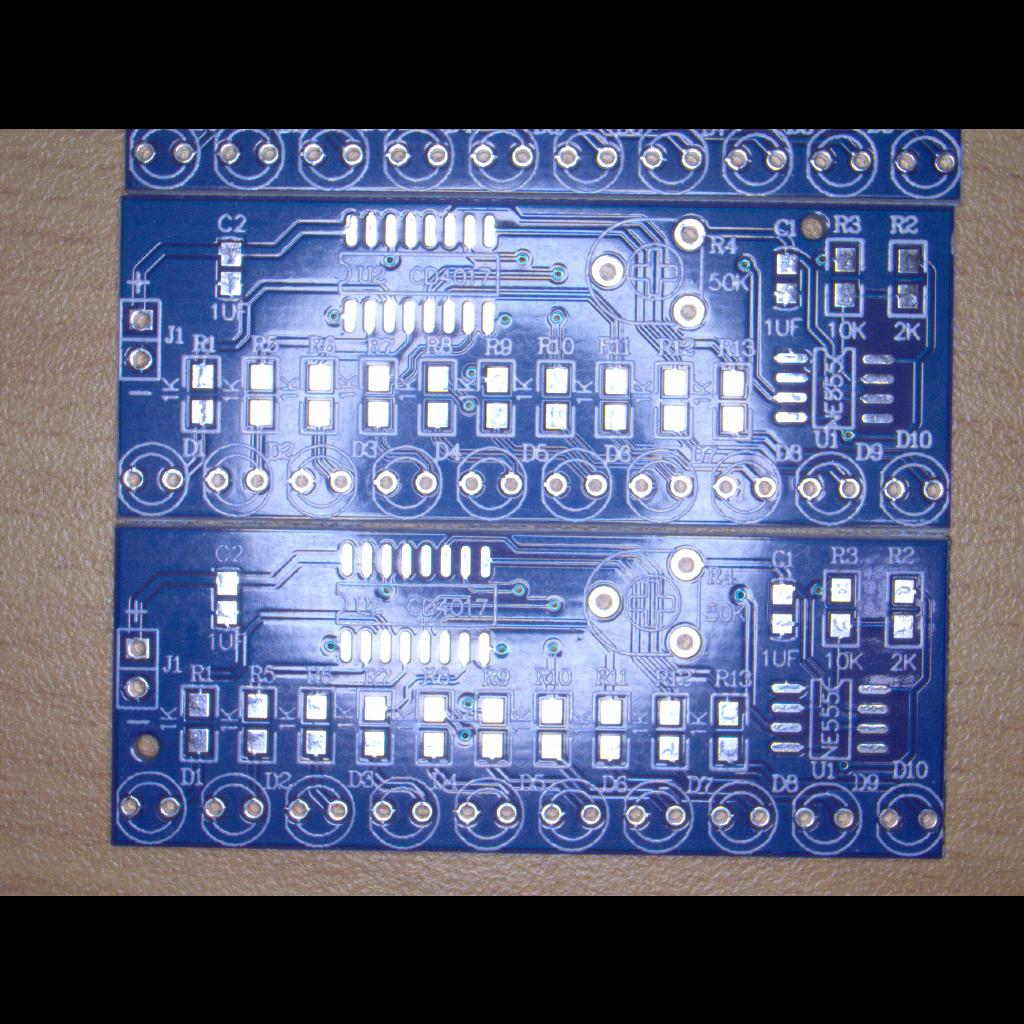NG: (326, 535, 510, 675), (329, 202, 511, 342), (764, 342, 904, 436), (765, 670, 899, 764), (352, 352, 404, 440), (884, 234, 932, 324), (234, 680, 284, 766), (590, 354, 638, 442), (821, 234, 869, 320), (415, 354, 463, 440), (470, 686, 518, 772), (588, 688, 634, 776), (176, 677, 222, 765), (532, 356, 580, 440), (294, 351, 342, 435), (236, 352, 284, 436), (651, 356, 697, 442), (648, 688, 694, 774), (530, 686, 576, 772), (709, 358, 755, 442), (179, 351, 225, 435), (882, 568, 928, 652), (821, 566, 865, 652), (708, 688, 752, 774), (475, 356, 519, 440), (413, 683, 455, 771), (354, 686, 398, 770), (296, 680, 338, 768), (207, 561, 247, 637), (769, 240, 807, 314), (765, 574, 801, 646), (212, 234, 248, 304)
OK: (118, 296, 164, 380)
